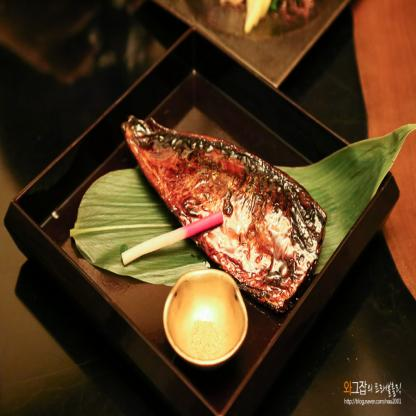Peixe: (118, 107, 346, 288)
